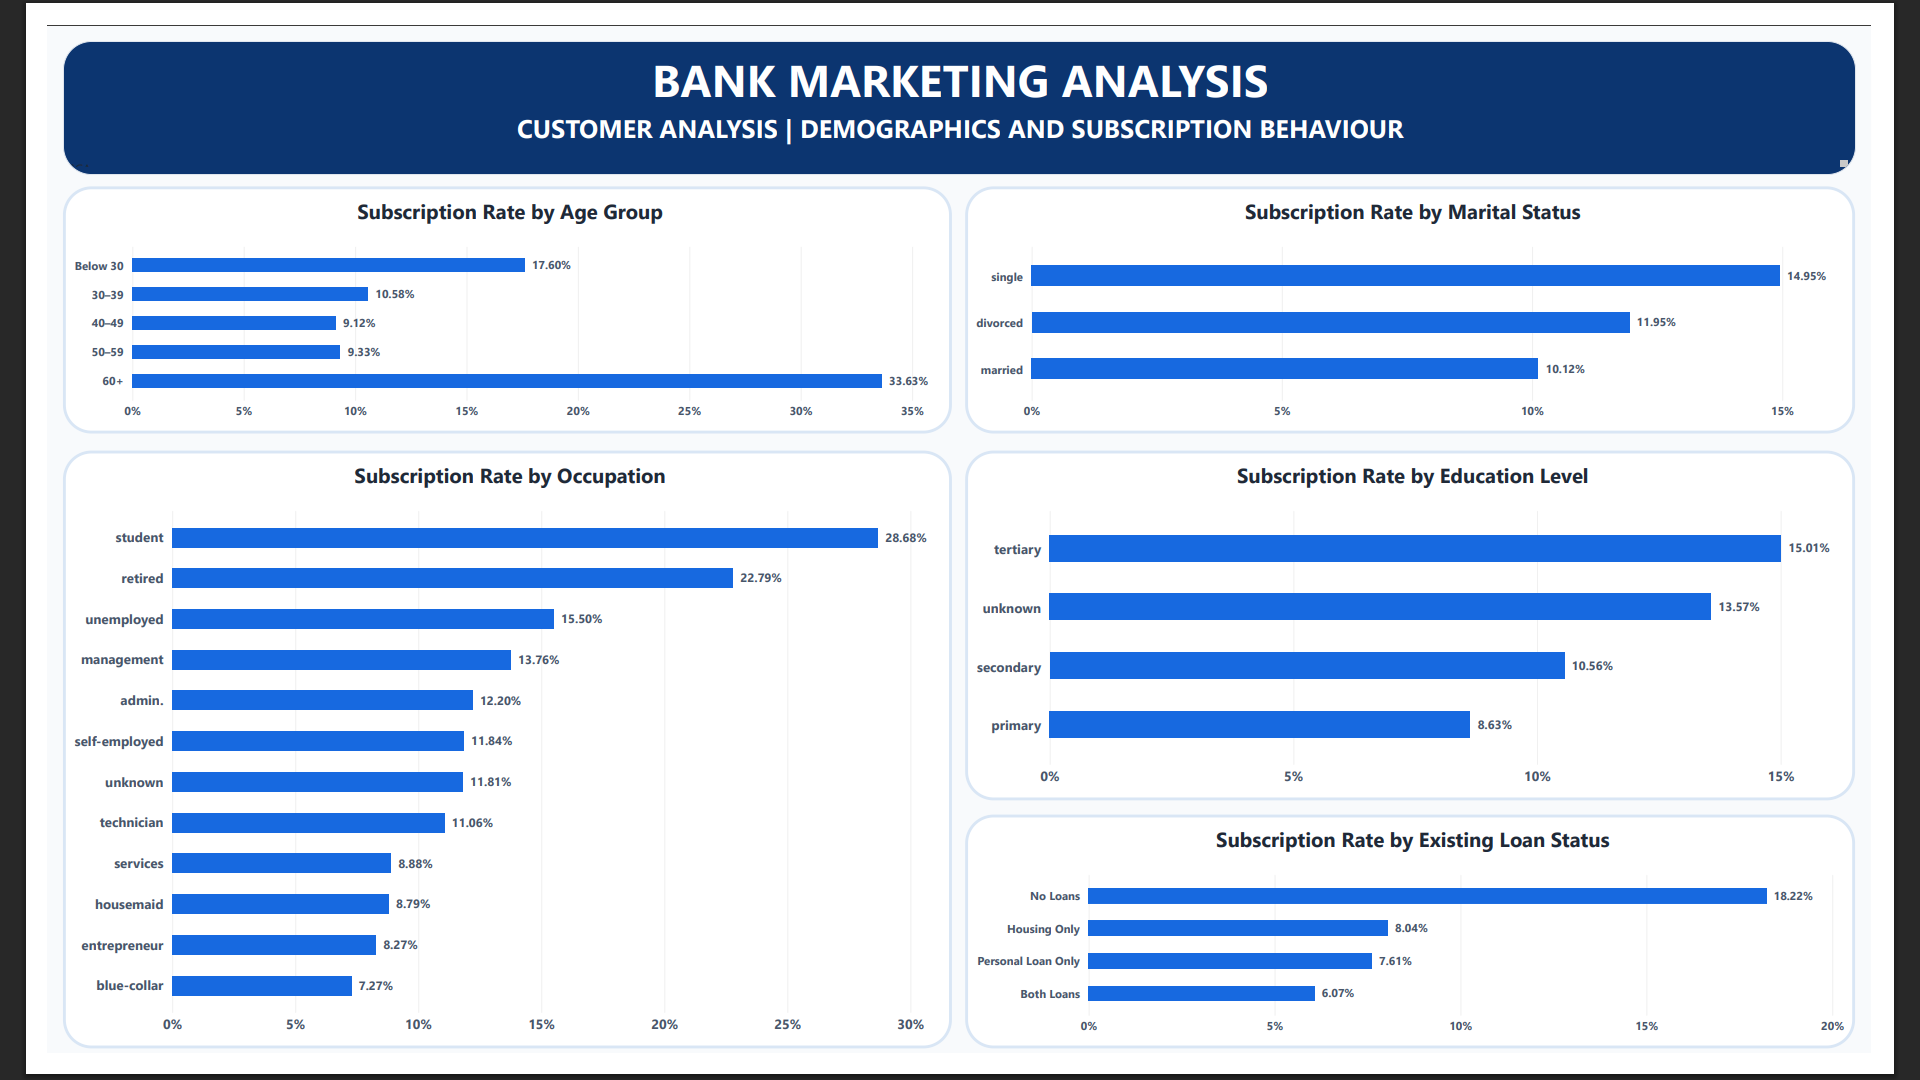

The page's visual inventory and layout, read from the dashboard file:
{"tool":"powerbi","page":{"name":"Customer Analysis","canvas":[1920,1080],"ordinal":1},"visuals":[{"type":"clusteredBarChart","title":"Subscription Rate by Age Group","fields":{"Category":["bank_campaign.Age Group"],"Y":["bank_campaign.Subscription Rate"]},"box":[15.7,169.2,936,259.9],"z":1000},{"type":"clusteredBarChart","title":"Subscription Rate by Occupation","fields":{"Category":["bank_campaign.job"],"Y":["bank_campaign.Subscription Rate"]},"box":[15.7,446.5,936.6,629.7],"z":2000},{"type":"clusteredBarChart","title":"Subscription Rate by Education Level","fields":{"Category":["bank_campaign.education"],"Y":["bank_campaign.Subscription Rate"]},"box":[966.3,446.5,936.6,368],"z":3000},{"type":"clusteredBarChart","title":"Subscription Rate by Marital Status","fields":{"Category":["bank_campaign.marital"],"Y":["bank_campaign.Subscription Rate"]},"box":[966.3,169.2,936.6,259.9],"z":4000},{"type":"clusteredBarChart","title":"Subscription Rate by Existing Loan Status","fields":{"Category":["bank_campaign.Loan Status Group"],"Y":["bank_campaign.Subscription Rate"]},"box":[966.3,830.2,936.6,245.9],"z":5000},{"type":"textbox","title":"BANK MARKETING ANALYSIS","box":[16.4,15.7,1887.2,141.3],"z":5001}]}

Visuals, with their boxes in screenshot pixels (x1, y1, x2, y2), scaled from the page's 1920x1080 canvas onto the 1920x1080 screenshot:
"Subscription Rate by Age Group" clusteredBarChart: detection(16, 169, 952, 429)
"Subscription Rate by Occupation" clusteredBarChart: detection(16, 446, 952, 1076)
"Subscription Rate by Education Level" clusteredBarChart: detection(966, 446, 1903, 814)
"Subscription Rate by Marital Status" clusteredBarChart: detection(966, 169, 1903, 429)
"Subscription Rate by Existing Loan Status" clusteredBarChart: detection(966, 830, 1903, 1076)
"BANK MARKETING ANALYSIS" textbox: detection(16, 16, 1904, 157)
